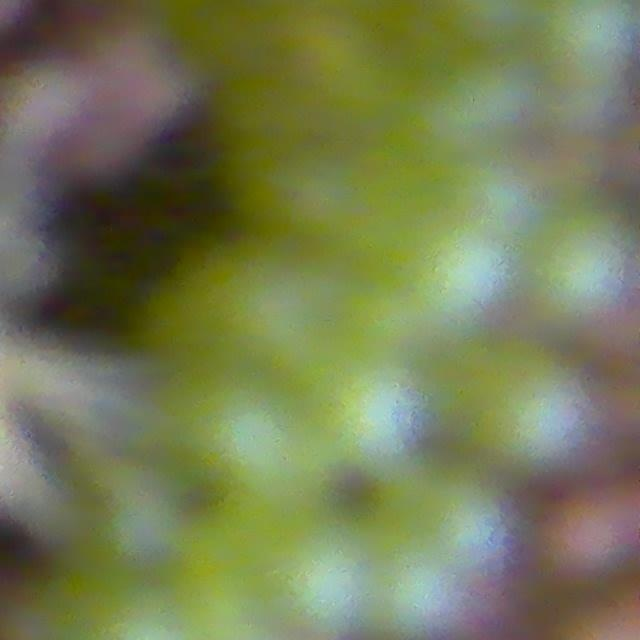SeaGrape: (181, 360, 318, 508), (464, 341, 593, 476), (258, 509, 381, 638), (315, 353, 425, 477), (528, 204, 636, 323), (412, 463, 512, 572), (411, 224, 517, 326), (445, 47, 542, 148), (539, 0, 640, 79), (374, 558, 464, 640)
